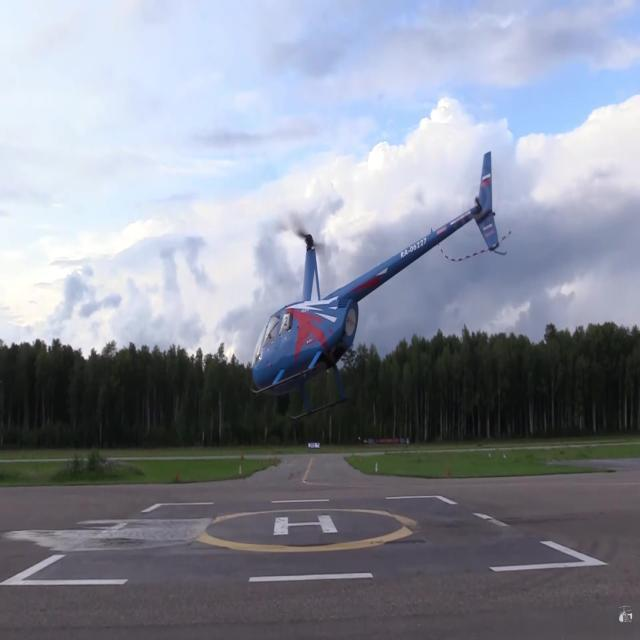CIV_HELO: (250, 150, 503, 422)
